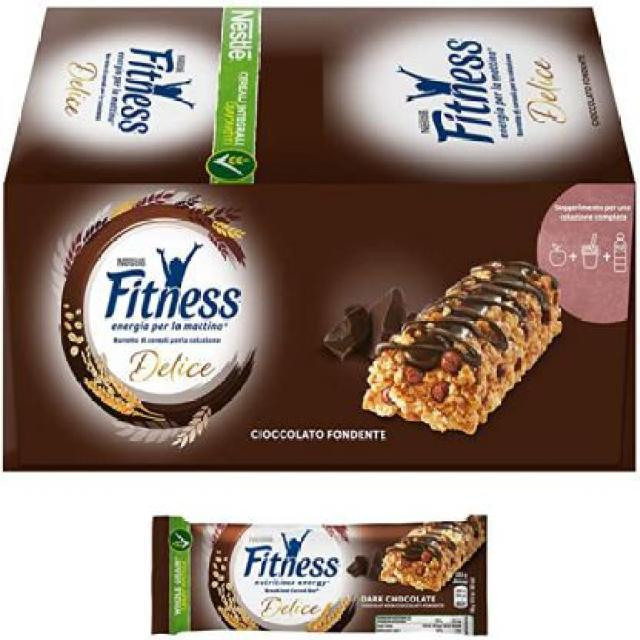Cereal bar: (147, 513, 496, 639)
